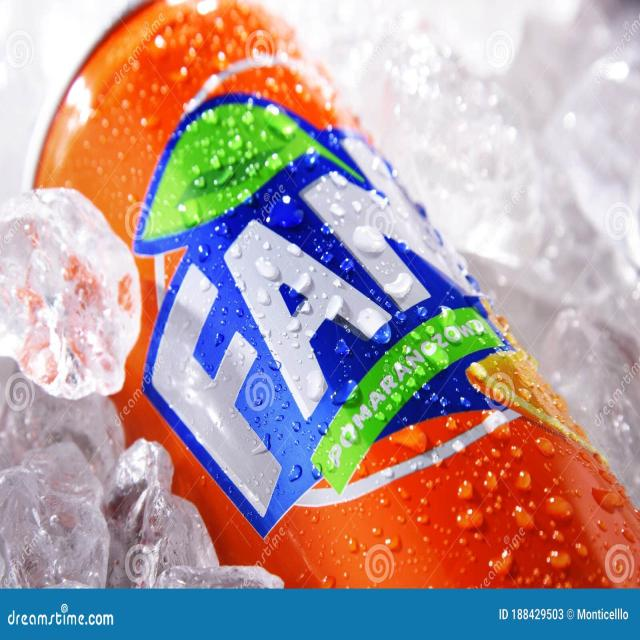fanta: (29, 0, 633, 640)
